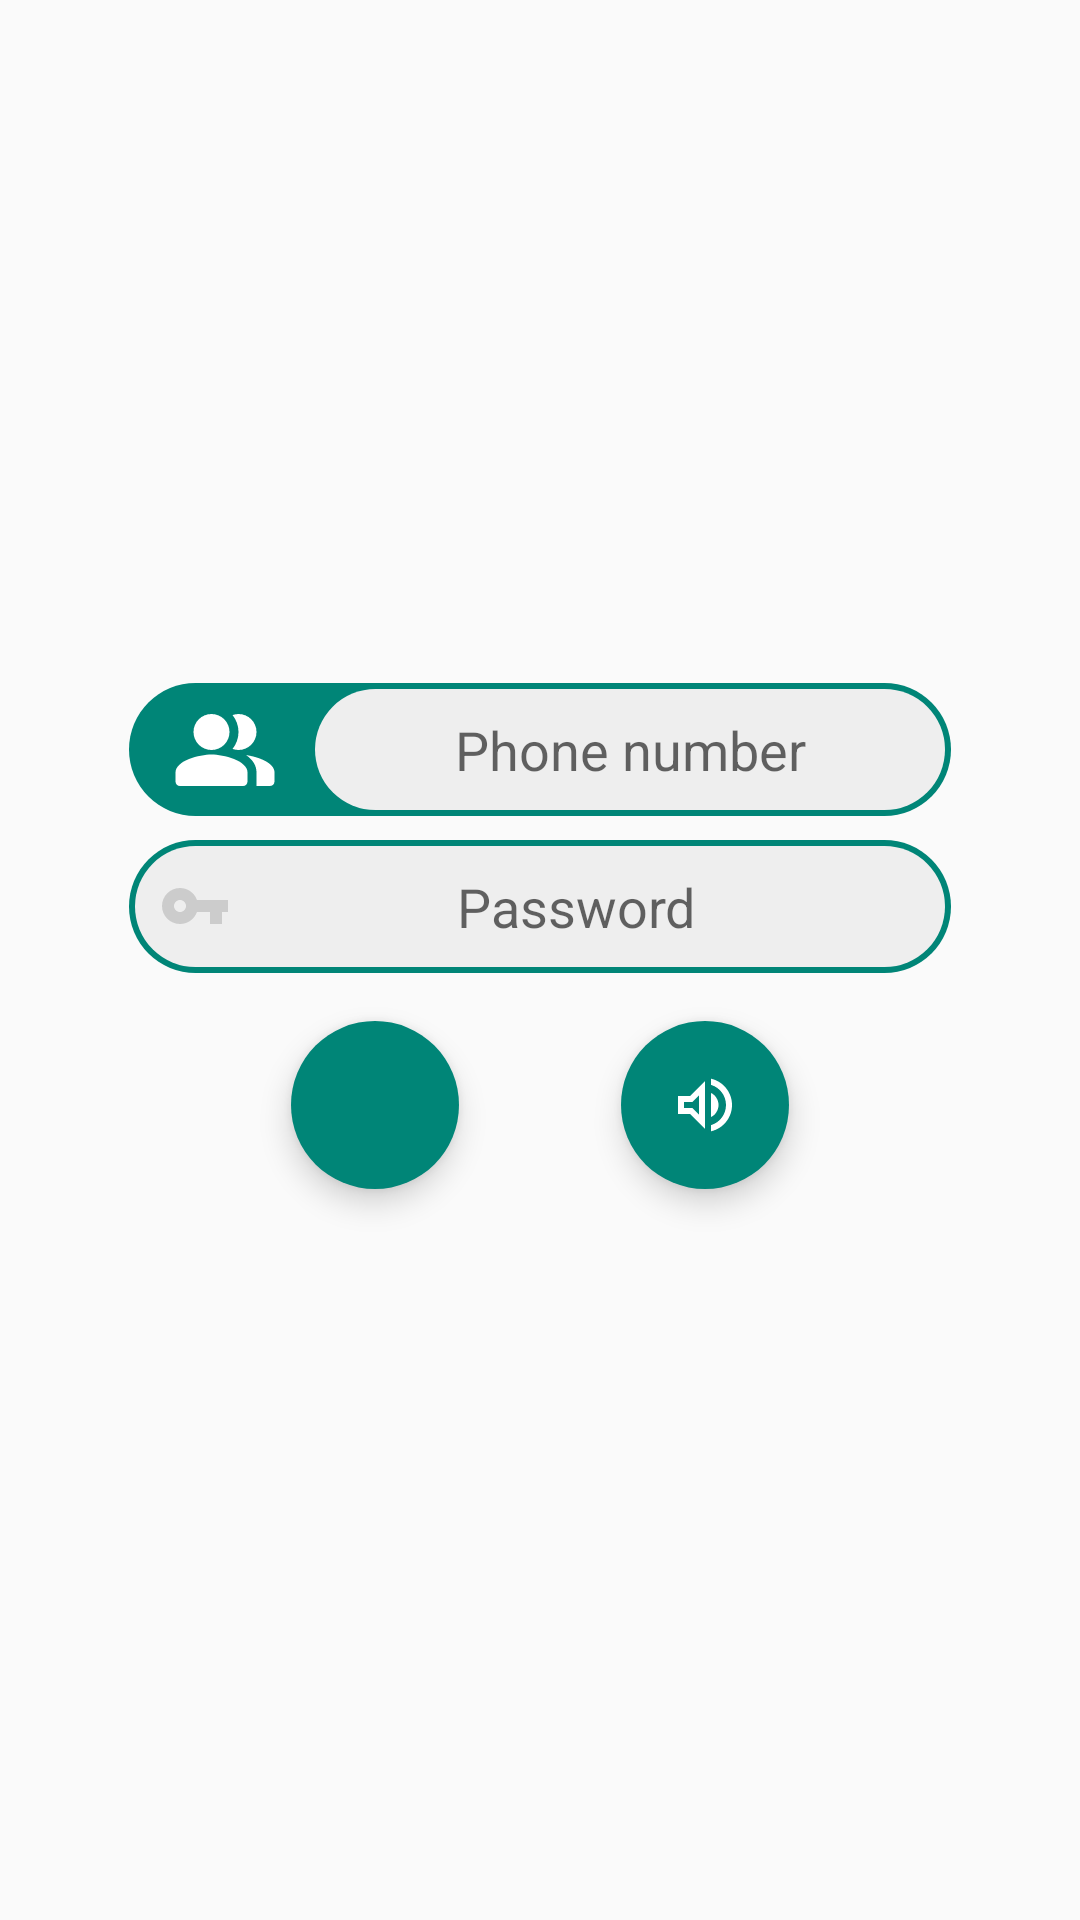

Icon click points for this 1080px x 1920px phone screenshot, format [x,y]:
CONTACTS BUTTON: [225,750]
